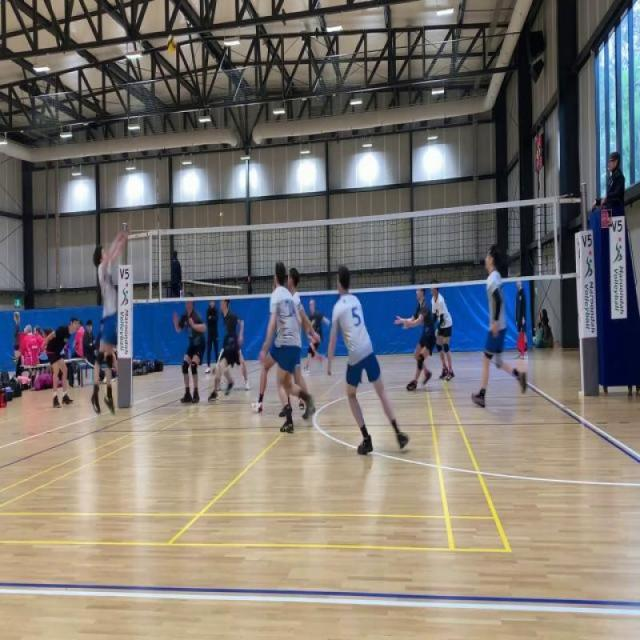volleyball: (166, 32, 177, 55), (218, 210, 224, 220)
